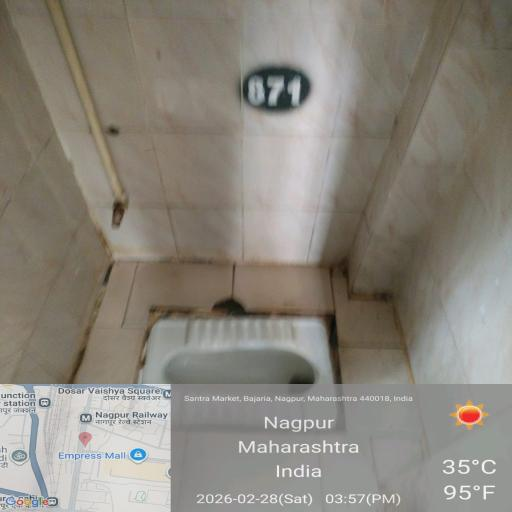clean_floor: (18, 13, 474, 276)
clean_indian: (116, 296, 368, 446)
